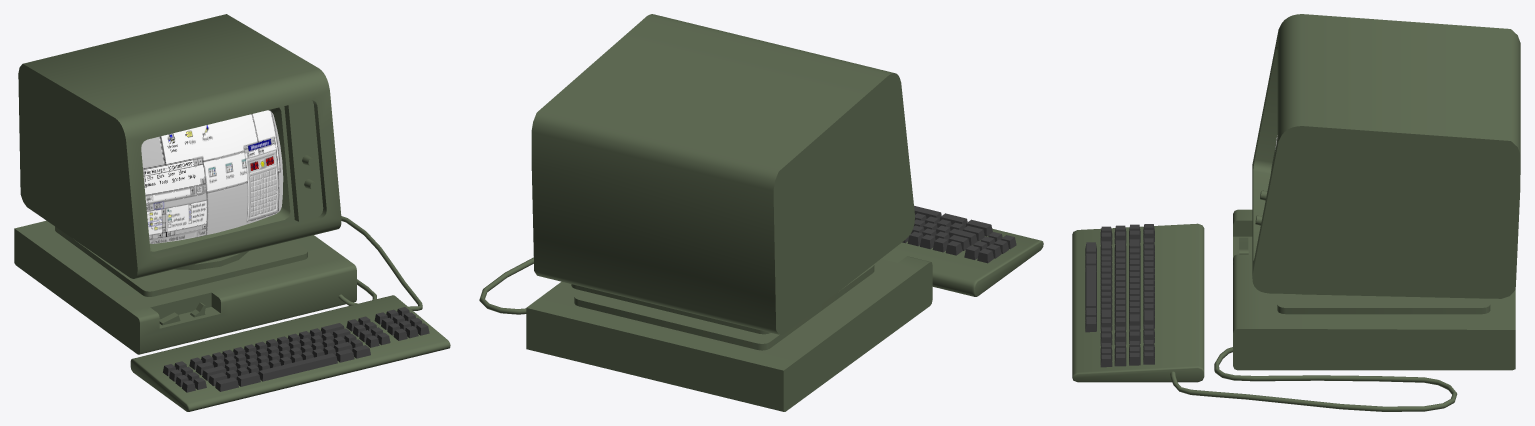
Rendered from computer.glb.
The picture shows the model from 3 angles, left to right: view 1: azimuth 30°, elevation 25°; view 2: azimuth 150°, elevation 25°; view 3: azimuth 270°, elevation 25°; orthographic projection. The views are drawn at different scales.
Parts seen in each view (by area): view 1: computer.002, computer screen; view 2: computer.002; view 3: computer.002.
Part boxes in pixels (left/top/right/bottom): computer.002: left=14, top=14, right=450, bottom=411; computer screen: left=141, top=110, right=283, bottom=243; computer.002: left=479, top=14, right=1043, bottom=411; computer.002: left=1072, top=14, right=1520, bottom=411.
Bounding box in the file's own units: 0.5779 × 0.3725 × 0.629.
3 materials, 1 textured.
